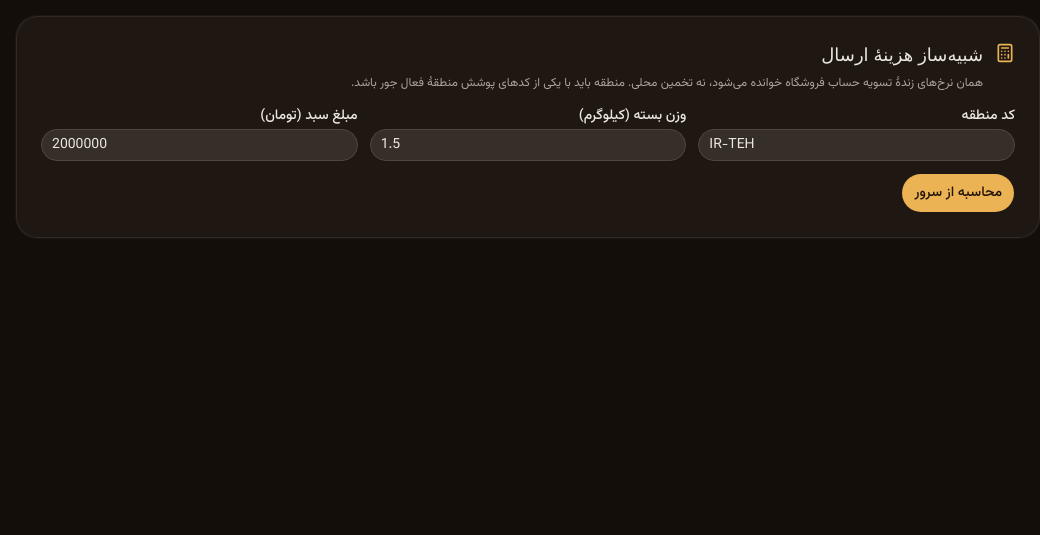
Test: ShippingQuoteSimulator › explains a quote failure without naming the API
The image size is (1040, 535).
Step 1. Click the button "محاسبه از سرور" → (958, 193), box top-left (901, 173), bottom-right (1015, 213)
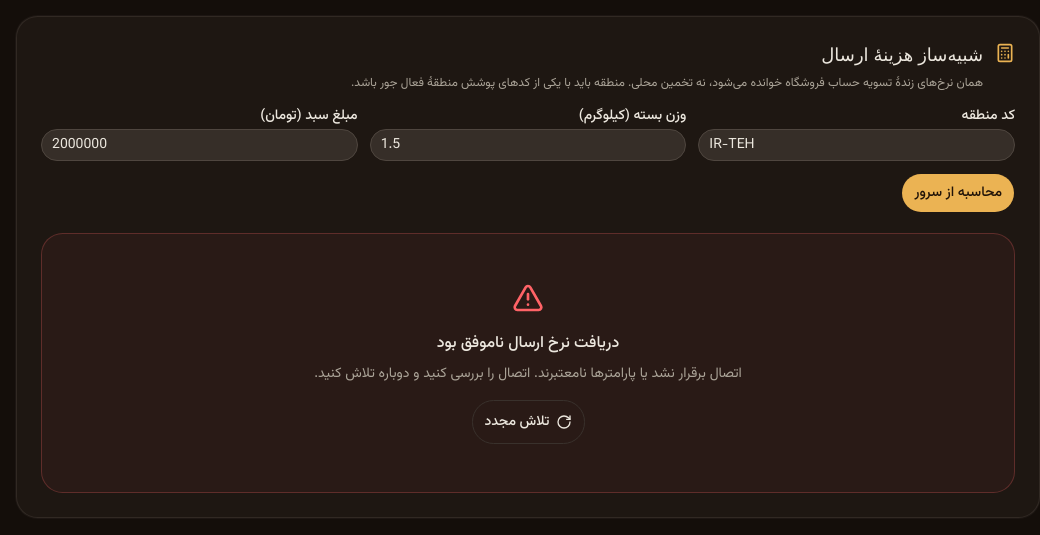
Expected: the message shows "دریافت نرخ ارسال ناموفق بود", top-left (437, 331), bottom-right (619, 356)
Expected: the message shows "اتصال برقرار نشد", top-left (314, 363), bottom-right (742, 385)
